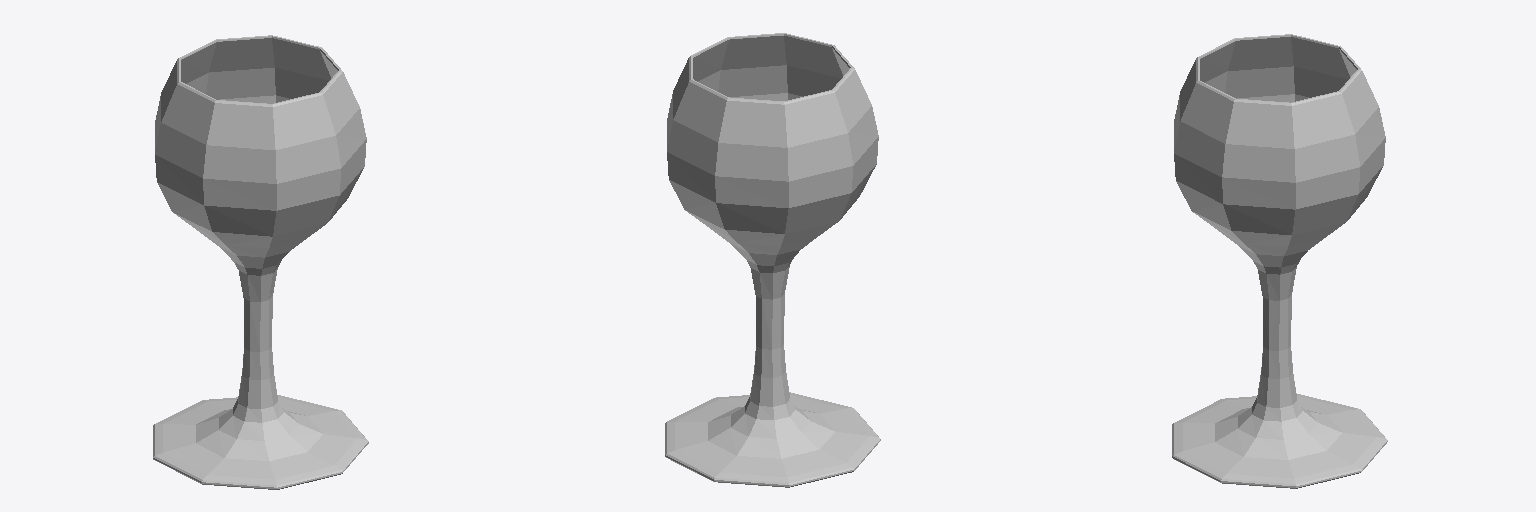
File: wine.obj
3 renders of one model, left to right at view 1: azimuth 30°, elevation 25°; view 2: azimuth 150°, elevation 25°; view 3: azimuth 270°, elevation 25°, orthographic.
Parts seen in each view (by area): view 1: Bokal1; view 2: Bokal1; view 3: Bokal1.
Part boxes in pixels (left/top/right/bottom): Bokal1: left=153, top=35, right=368, bottom=489; Bokal1: left=665, top=33, right=880, bottom=487; Bokal1: left=1172, top=34, right=1387, bottom=488.
Size of the model in its own units: 467 by 880 by 460.